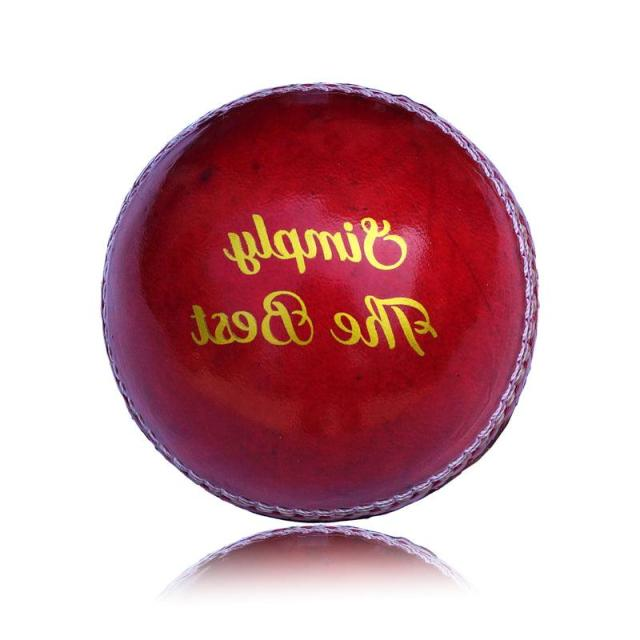ball: (100, 83, 538, 525)
